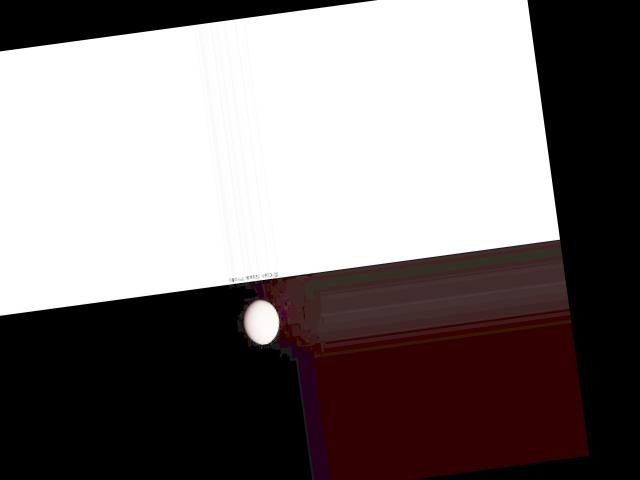egg: (241, 296, 281, 346)
